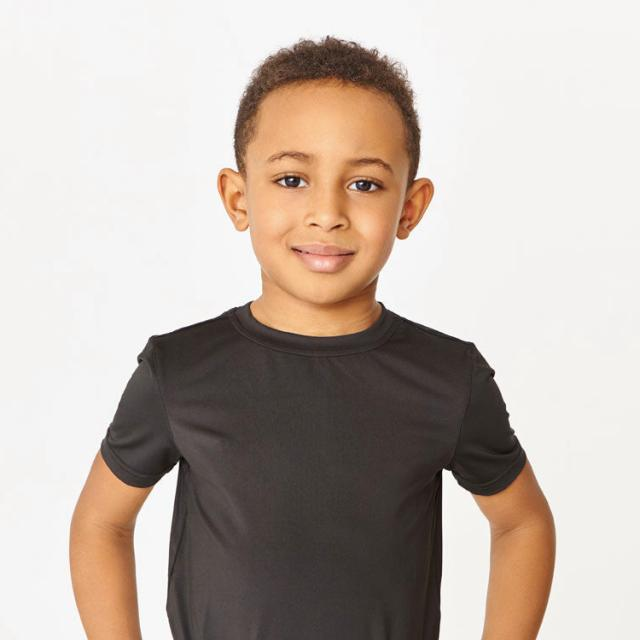child: (69, 36, 562, 640)
